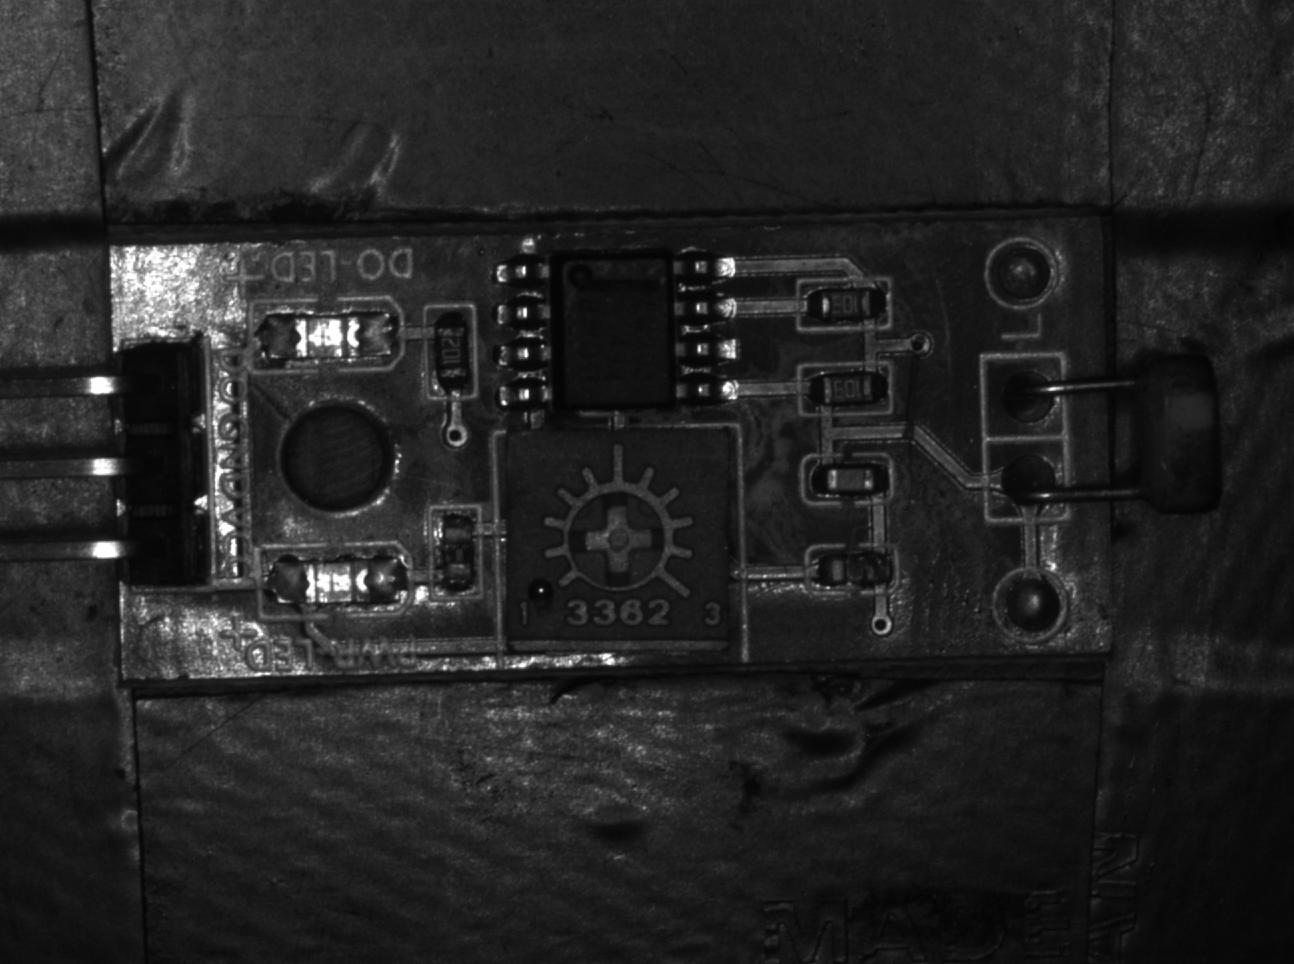miss: (429, 504, 481, 594)
ok: (791, 276, 896, 330), (424, 304, 476, 401), (800, 363, 891, 416), (803, 546, 900, 594), (804, 455, 891, 506)
